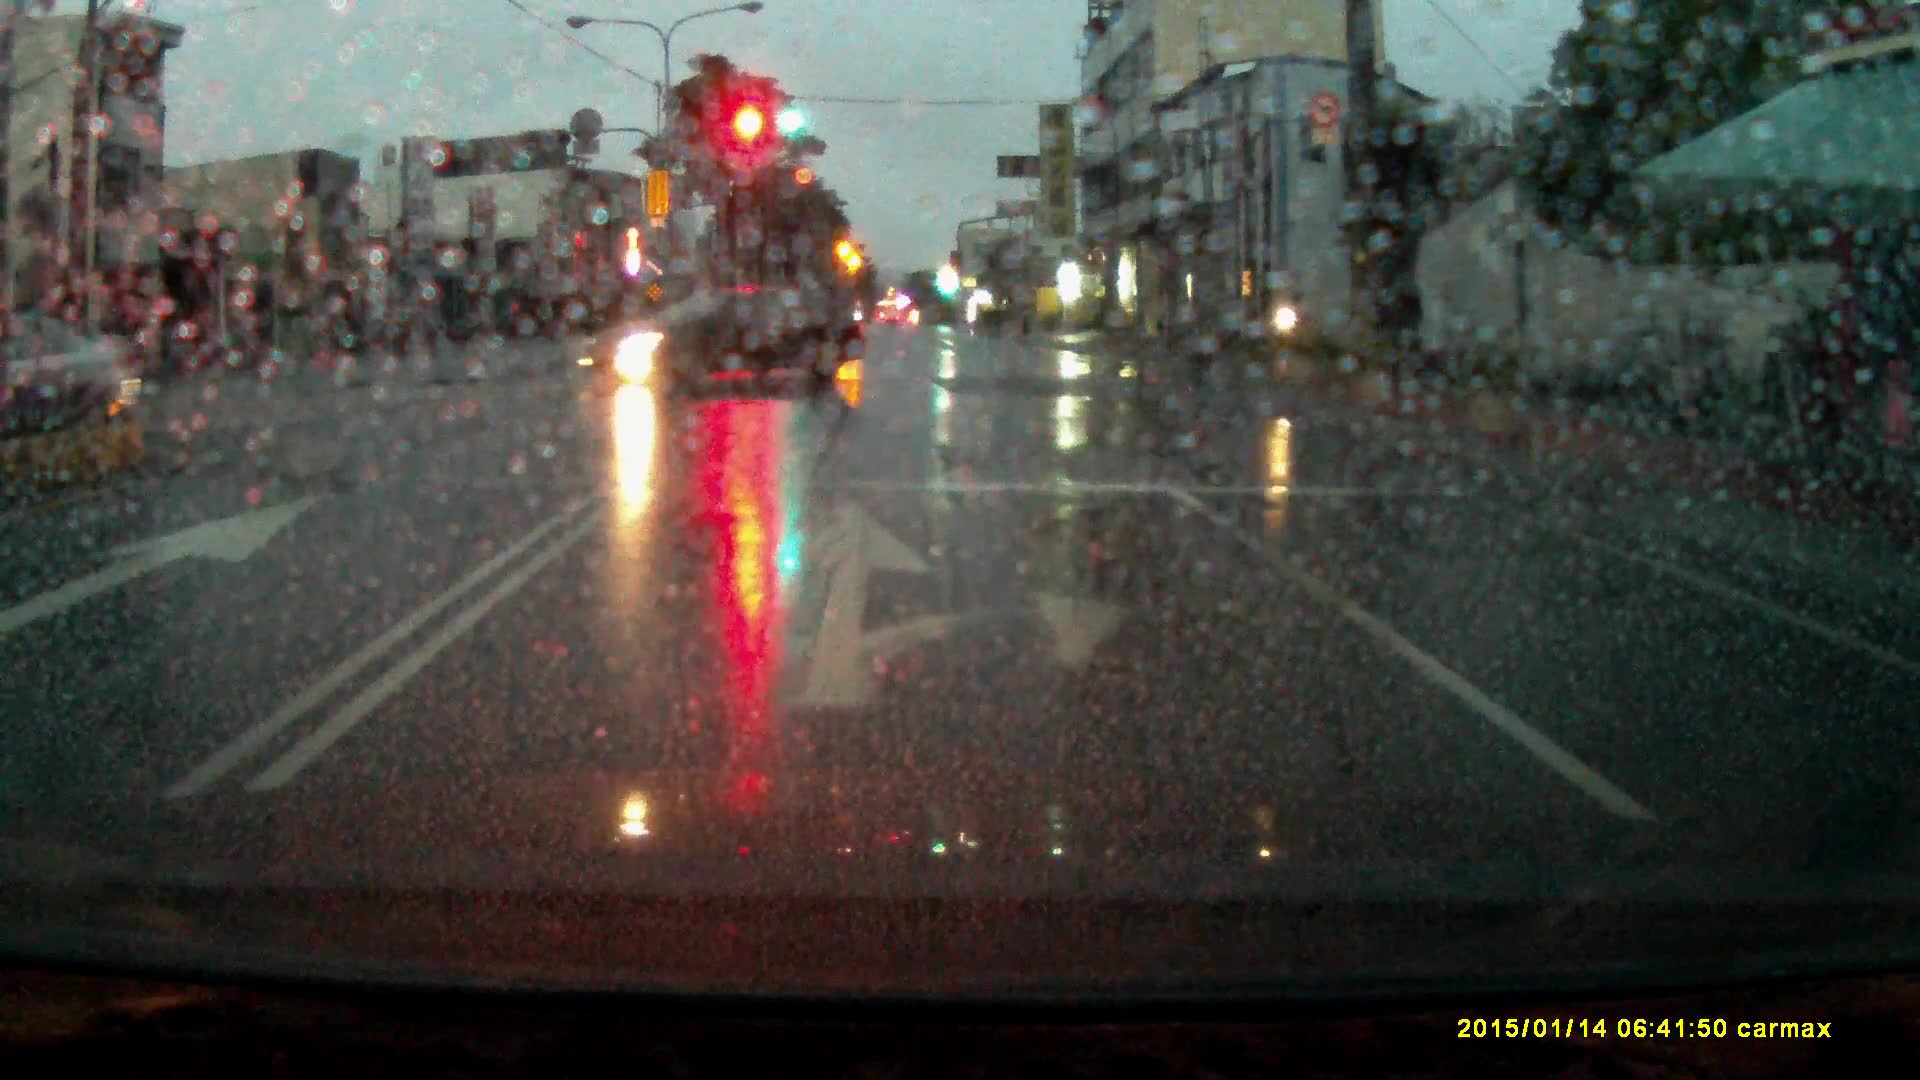rider: (1262, 280, 1318, 363)
vehicle: (570, 289, 864, 395)
